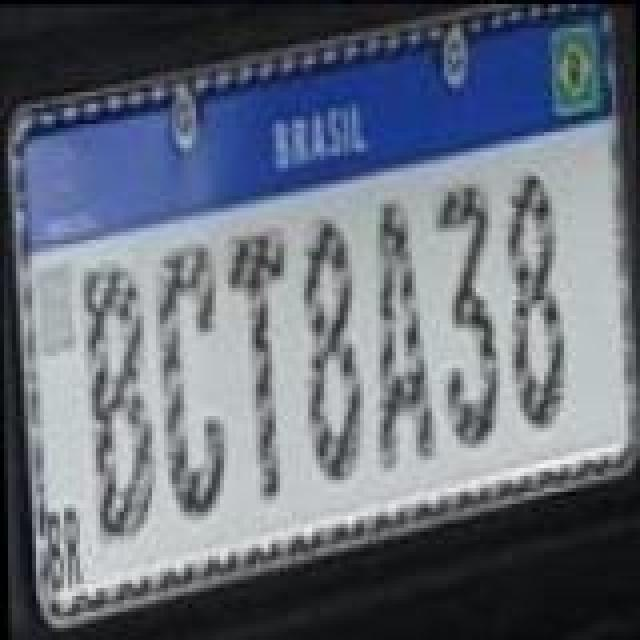3: (432, 176, 500, 448)
8: (368, 190, 436, 474), (296, 218, 364, 490), (506, 166, 570, 434)
B: (82, 260, 158, 540)
C: (150, 240, 222, 520)
T: (224, 230, 292, 506)
